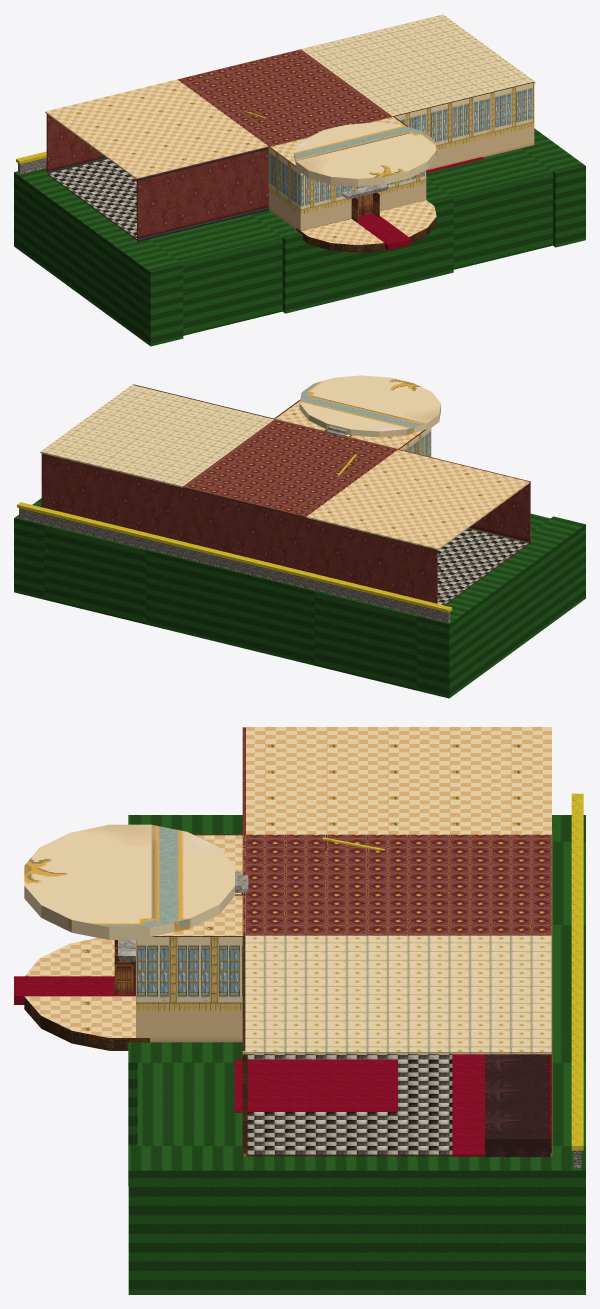
The model's file is Ending_brush.glb.
3 renders of one model, top to bottom at view 1: azimuth 30°, elevation 25°; view 2: azimuth 150°, elevation 25°; view 3: azimuth 270°, elevation 25°, orthographic. The views are drawn at different scales.
Visible parts, largest first — view 1: Ending; view 2: Ending; view 3: Ending.
Part boxes in pixels (<box>): Ending: <box>14,14,585,346</box>; Ending: <box>14,375,585,698</box>; Ending: <box>14,727,585,1294</box>.
Size of the model in its own units: 5252 by 1666 by 3570.
Materials: 22 (22 with a texture image).
